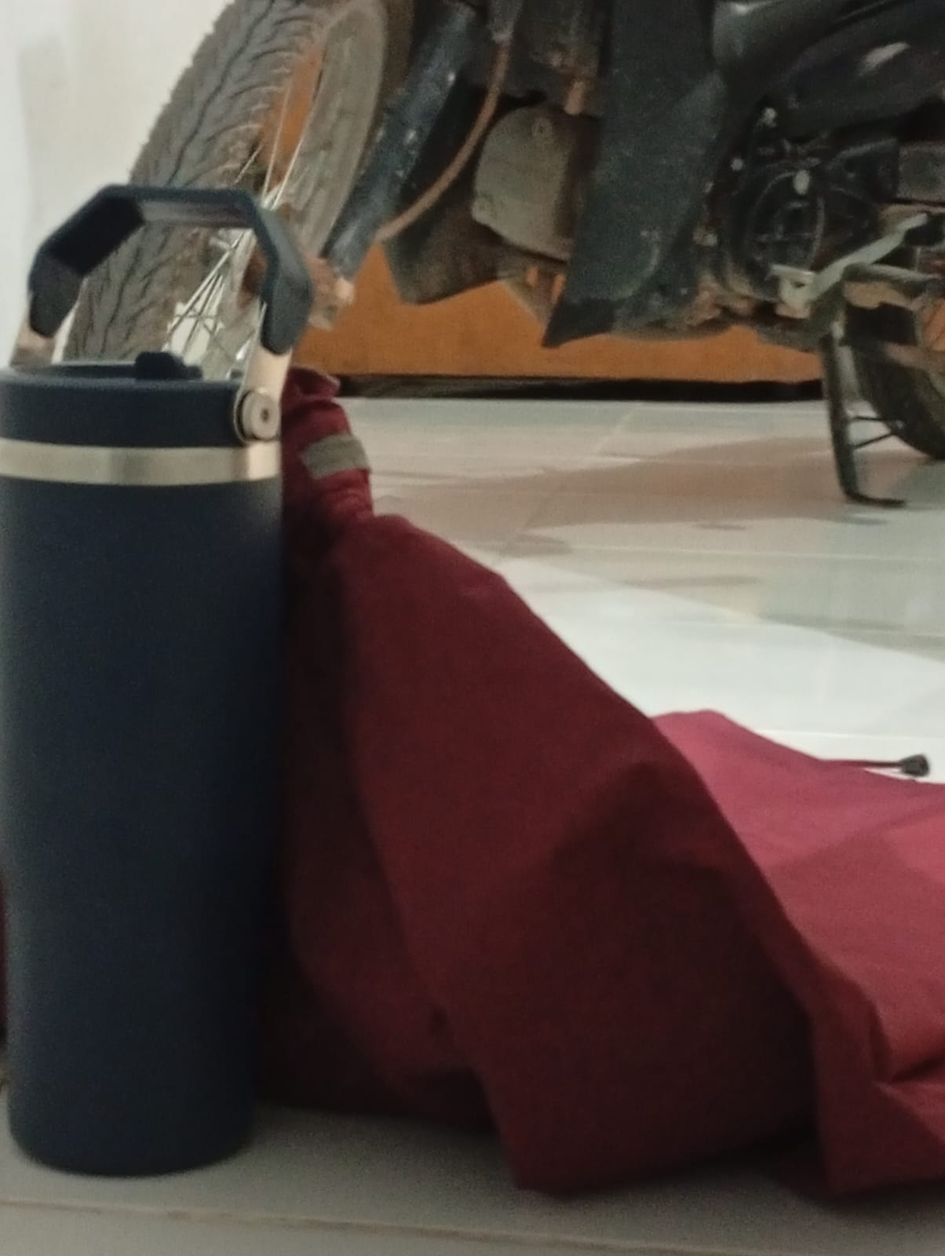Tupperware: (0, 165, 363, 1186)
